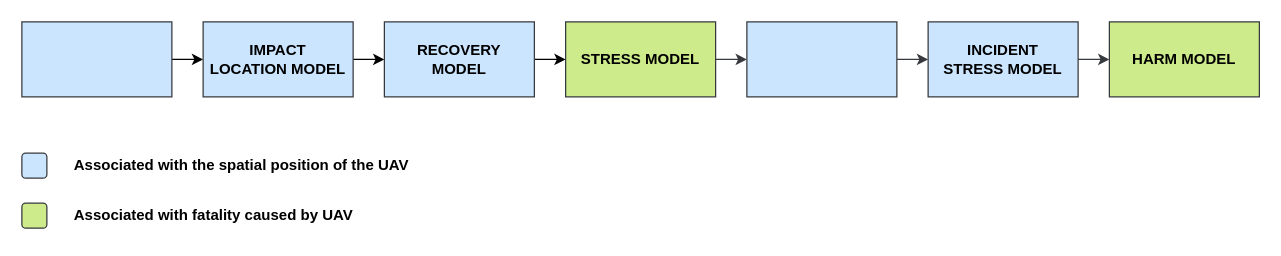
The diagram is 1281 pixels wide and 256 high, and some of its shapes have lost their labels. Each missing label, with the centre of its shape:
EXPOSURE MODEL: point 821,59
FAILURE MODEL: point 96,59
